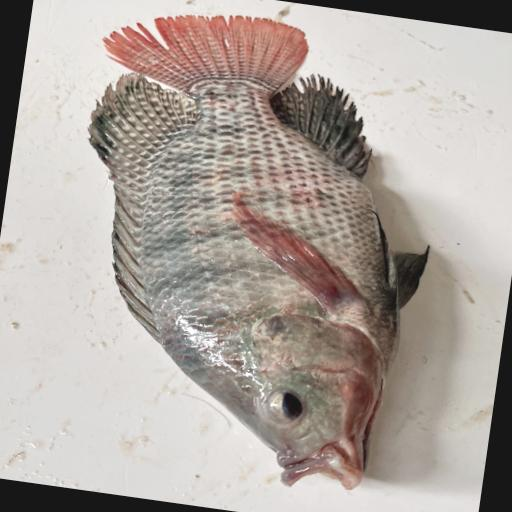Tilapia: (42, 0, 458, 501)
